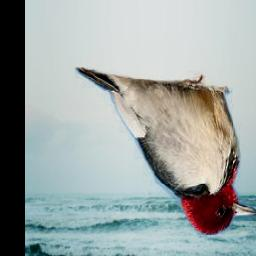Woodpecker: (76, 67, 256, 235)
